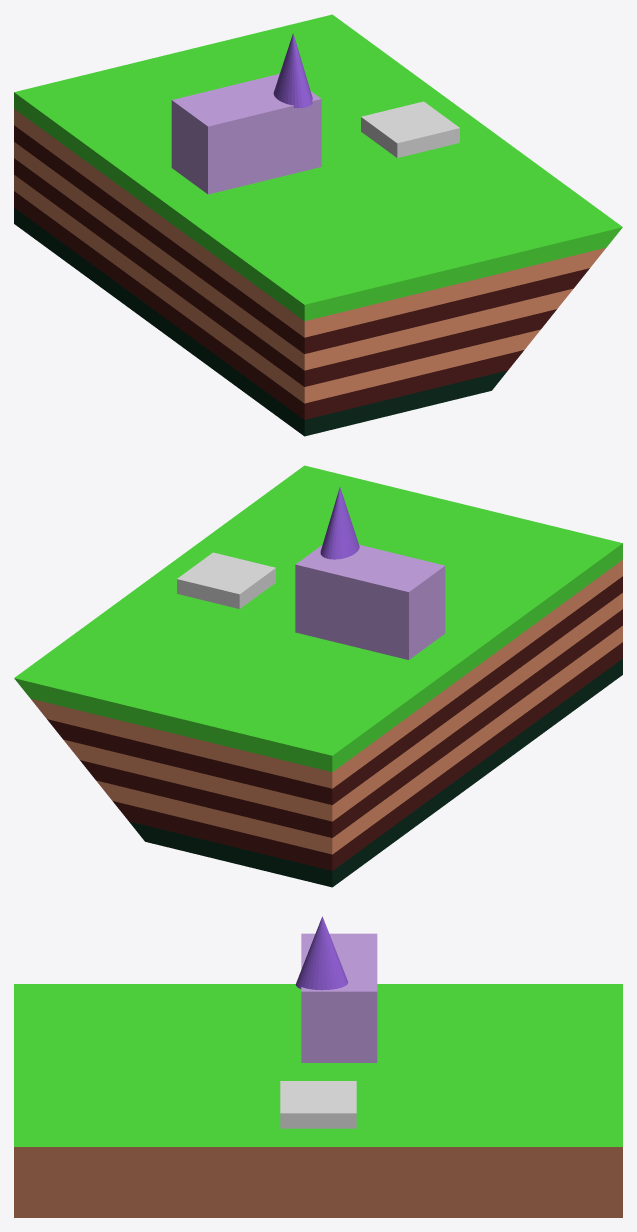
The model's file is firstsideofeq.gltf.
3 views of the same model, one above another, from view 1: azimuth 30°, elevation 25°; view 2: azimuth 150°, elevation 25°; view 3: azimuth 270°, elevation 25° (orthographic). The views are drawn at different scales.
Visible parts, largest first — view 1: Cube.003, Cube.005, Cube, Cone; view 2: Cube.003, Cube.005, Cube, Cone; view 3: Cube.003, Cube.005, Cube, Cone.
Boxes of the visible parts, box(x1,y1,x2,y2) form: Cube.003: box(14, 14, 622, 436); Cube.005: box(171, 74, 321, 194); Cube: box(361, 101, 459, 157); Cone: box(273, 33, 312, 108); Cube.003: box(14, 465, 622, 887); Cube.005: box(295, 544, 445, 659); Cube: box(177, 552, 275, 608); Cone: box(320, 487, 359, 559); Cube.003: box(14, 984, 622, 1217); Cube.005: box(301, 933, 377, 1062); Cube: box(280, 1081, 356, 1128); Cone: box(295, 916, 348, 990).
Size of the model in its own units: 10.13 by 7.99 by 16.
